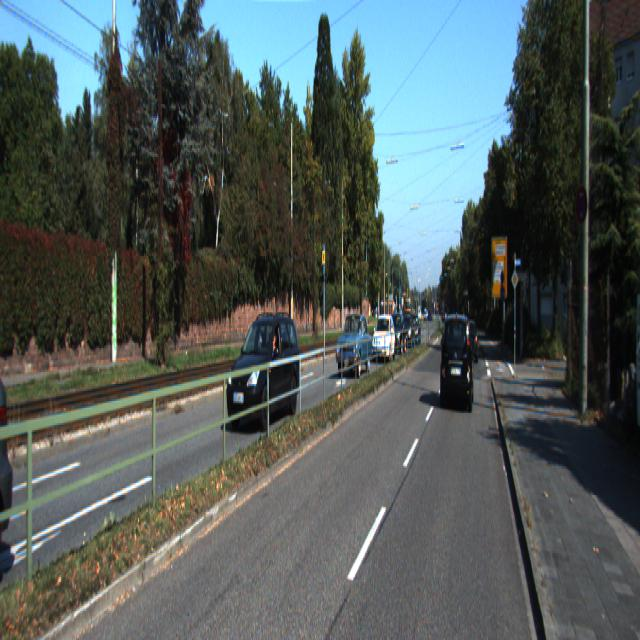Car: (227, 312, 304, 436), (440, 310, 475, 412), (336, 312, 374, 377), (373, 312, 396, 363), (388, 311, 407, 355), (461, 316, 478, 364), (402, 310, 416, 349)
